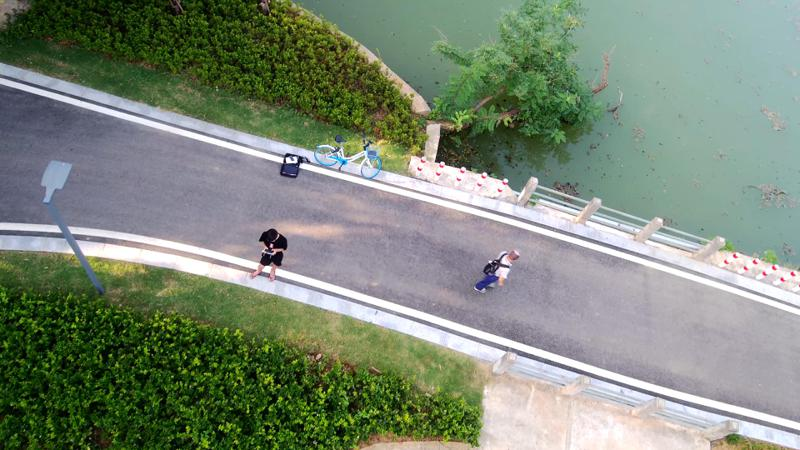passerby: (472, 247, 521, 296), (248, 225, 289, 282)
